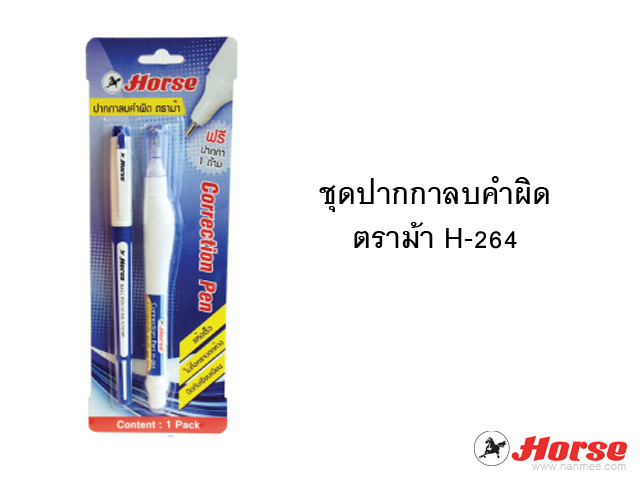Correction_fluid: (133, 122, 181, 415)
